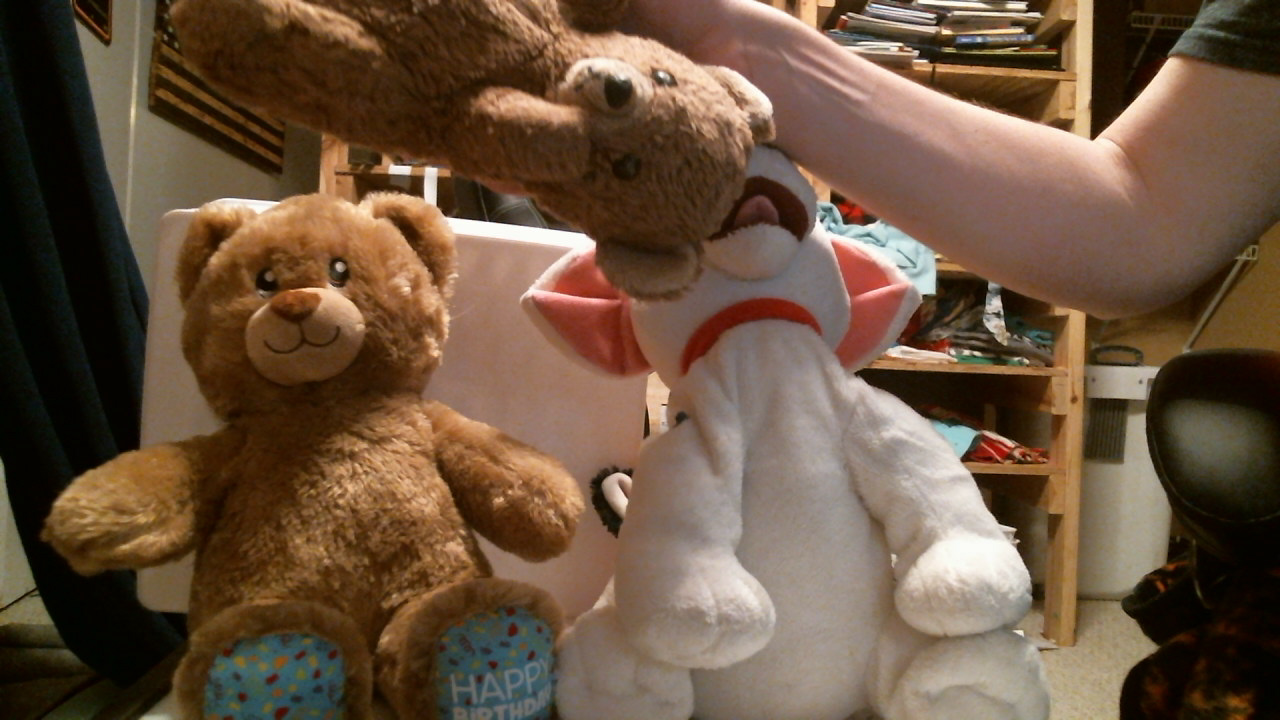Little_Mister_Bear: (522, 66, 715, 188)
